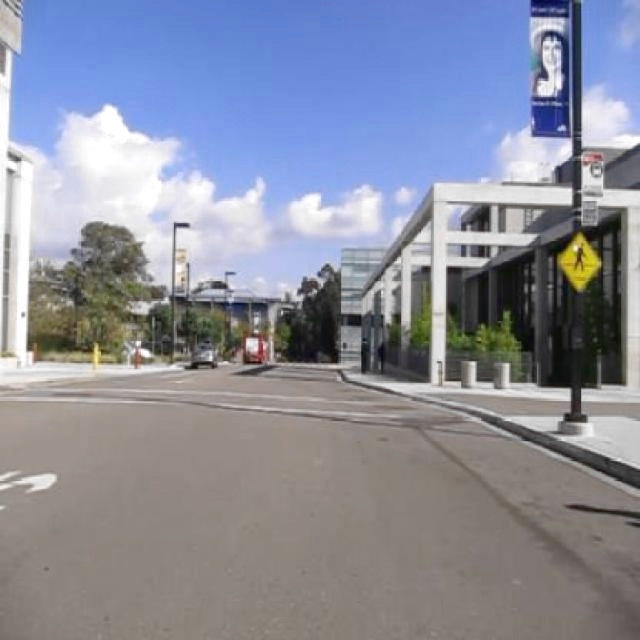pedestrianCrossing: (557, 229, 603, 292)
